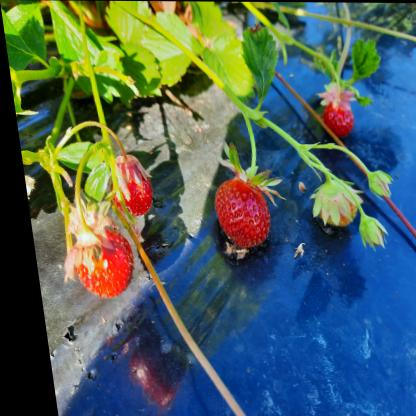ripe: (56, 232, 128, 295), (208, 182, 268, 250), (103, 159, 146, 210), (317, 100, 352, 136)
unripe: (310, 182, 349, 223)
